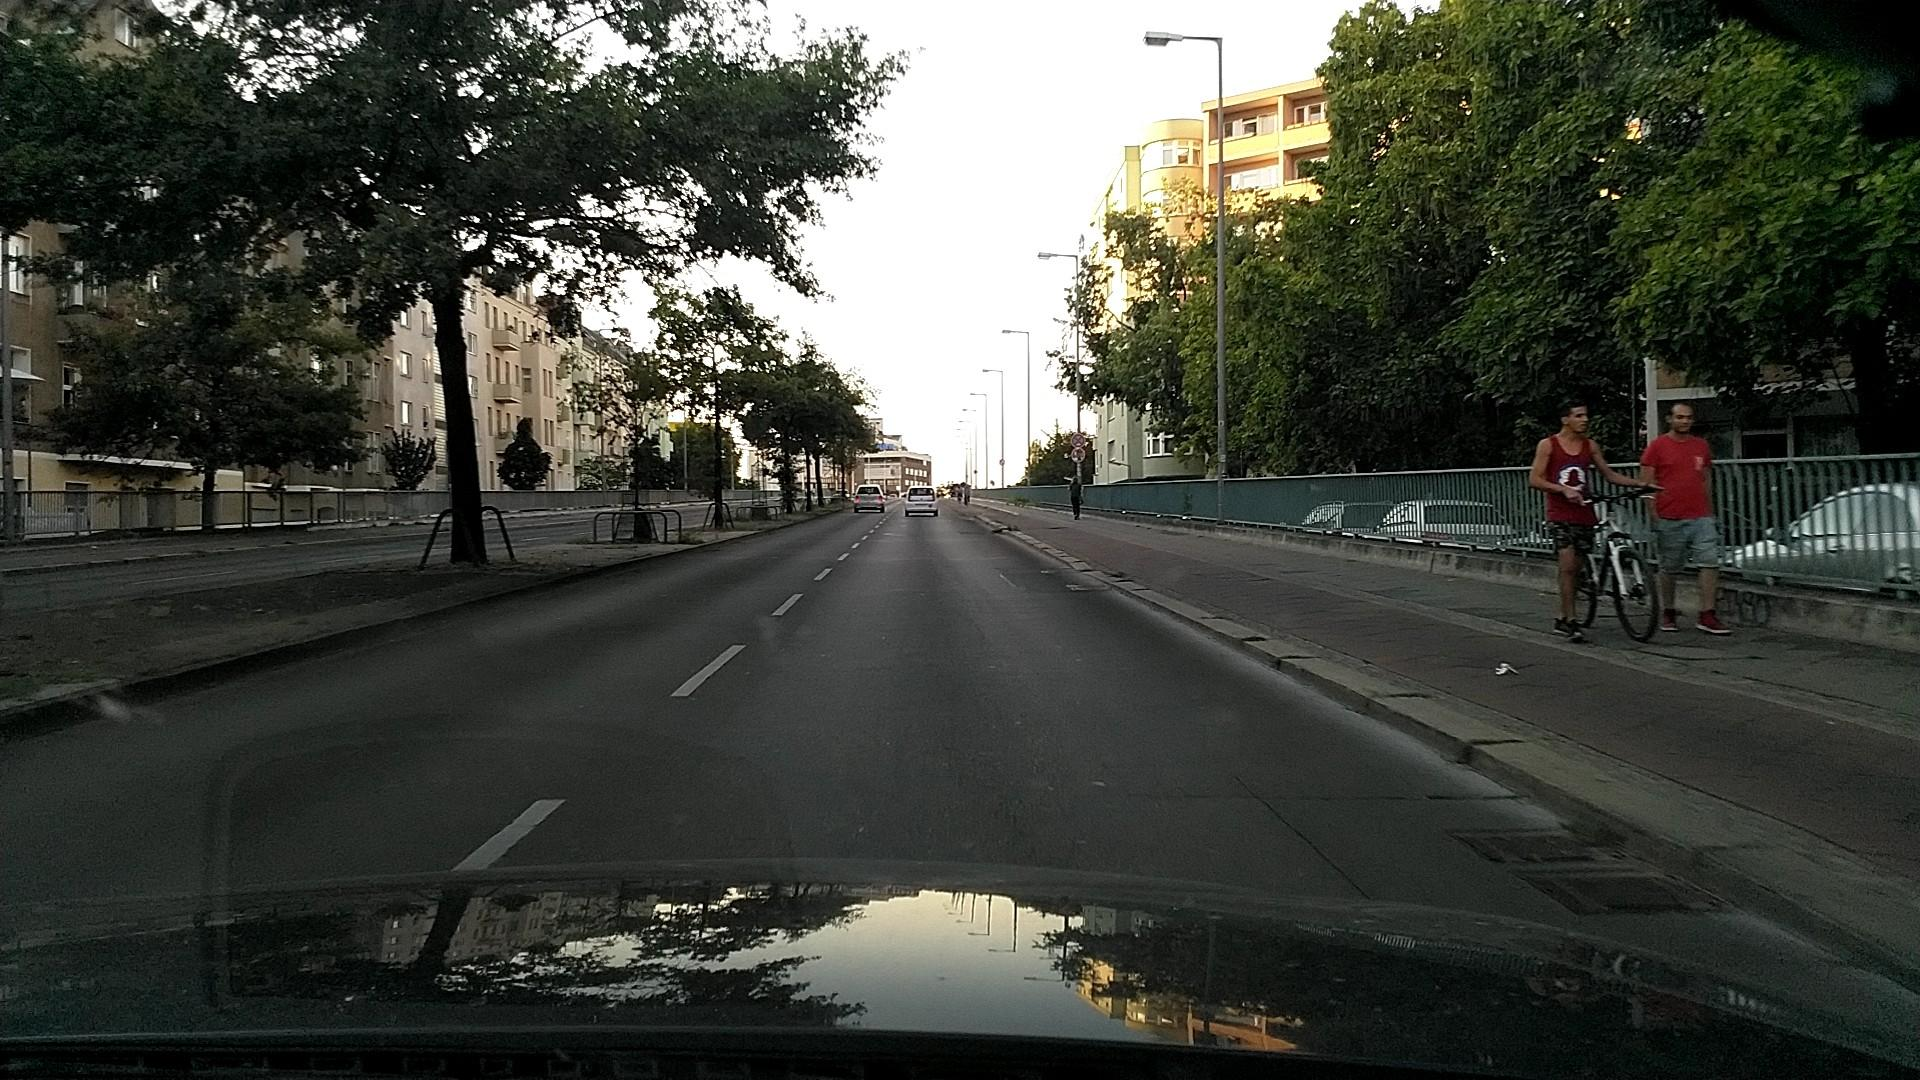Human face: (1560, 402, 1590, 434), (1665, 403, 1697, 434)
